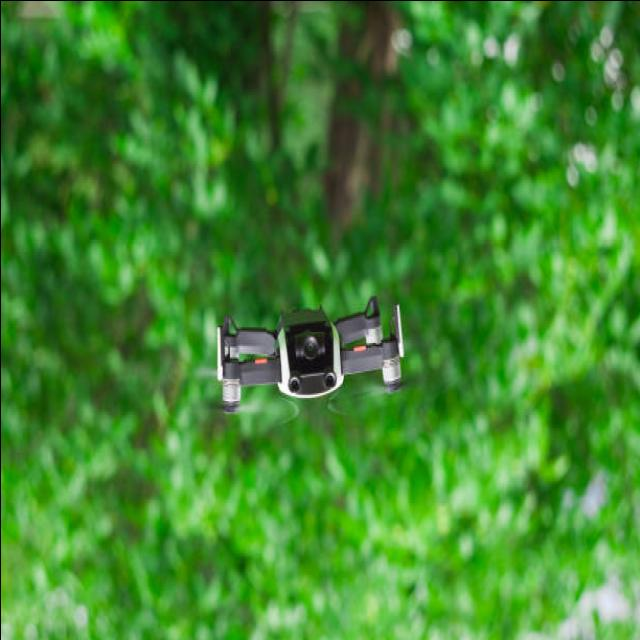drone: (214, 295, 406, 416)
